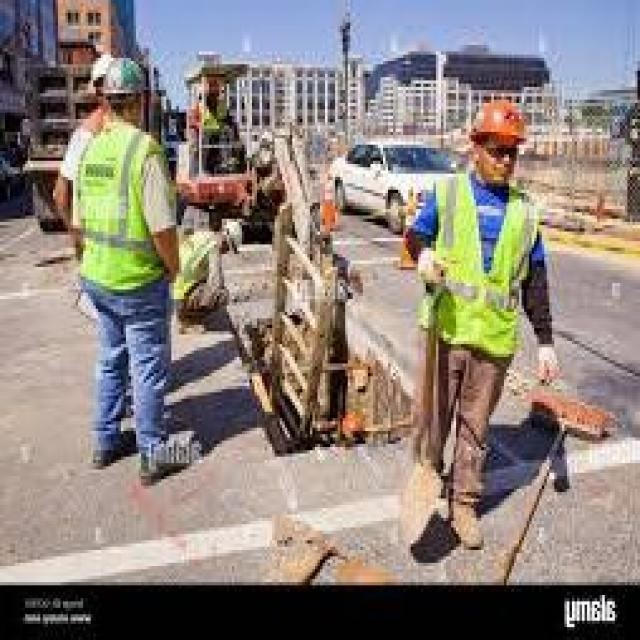Reflective-Jacket: (414, 171, 550, 373), (58, 119, 191, 312)
Safety-Helmet: (458, 84, 536, 154), (81, 45, 161, 109)
